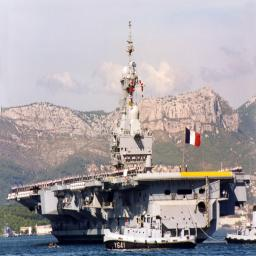Portanaves: (6, 20, 253, 247)
